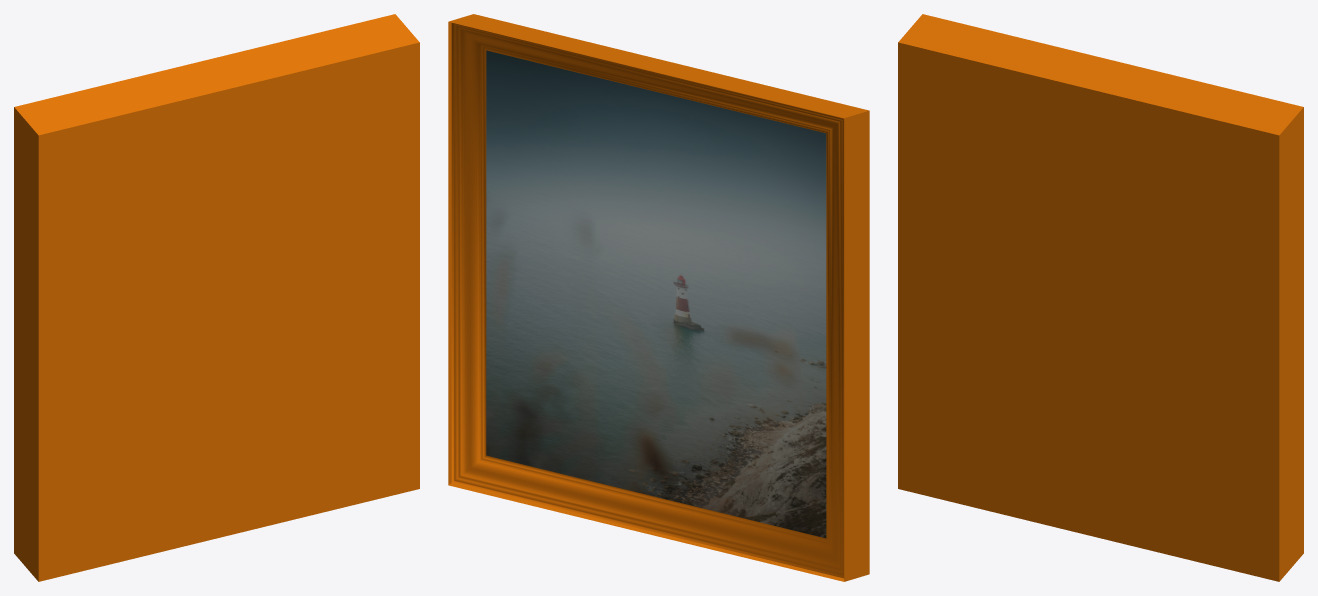
The picture shows the model from 3 angles, left to right: view 1: azimuth 30°, elevation 25°; view 2: azimuth 150°, elevation 25°; view 3: azimuth 330°, elevation 25°; orthographic projection. The views are drawn at different scales.
Visible parts, largest first — view 1: Cube; view 2: Cube; view 3: Cube.
Part boxes in pixels (x1,y1,x2,y2): Cube: (14,14,419,581); Cube: (448,14,869,581); Cube: (898,14,1303,581).
Bounding box in the file's own units: 2 × 2.29 × 0.2224.
Materials: 2 (1 with a texture image).
